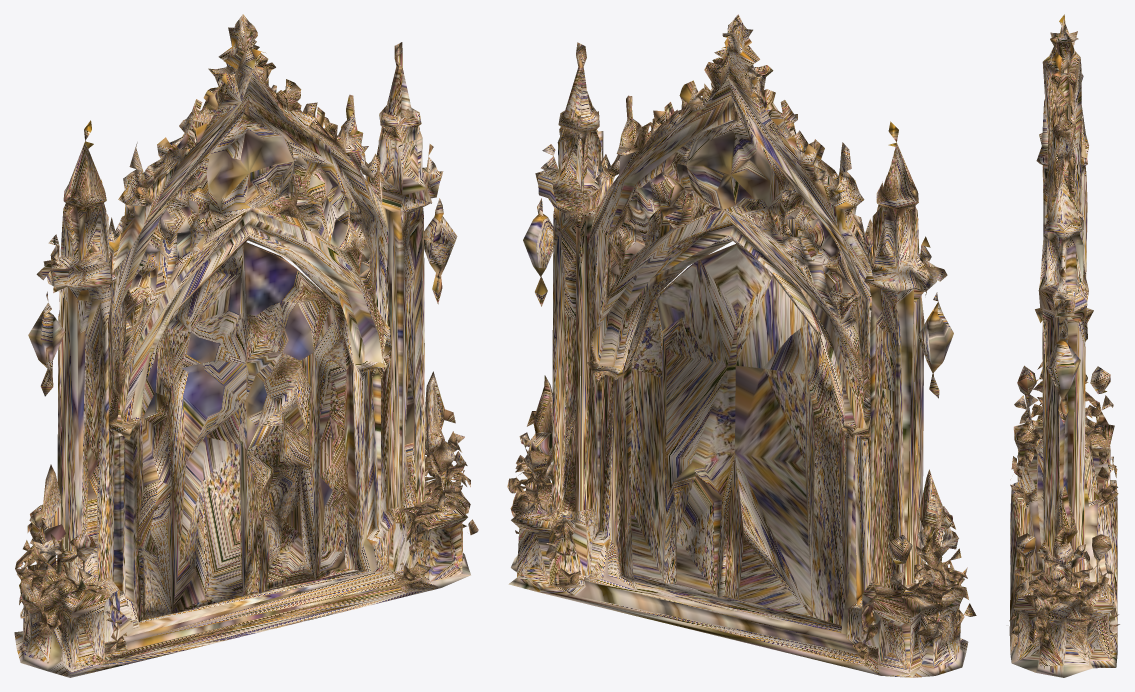
File: Royal_Portal_Gate.glb
3 renders of one model, left to right at view 1: azimuth 30°, elevation 25°; view 2: azimuth 150°, elevation 25°; view 3: azimuth 270°, elevation 25°, orthographic. The views are drawn at different scales.
Parts seen in each view (by area): view 1: Royal_Portal_Gate; view 2: Royal_Portal_Gate; view 3: Royal_Portal_Gate.
Boxes of the visible parts, x1,y1,x2,y2 form: Royal_Portal_Gate: [14, 14, 478, 677]; Royal_Portal_Gate: [507, 14, 976, 677]; Royal_Portal_Gate: [1009, 14, 1119, 677].
Bounding box in the file's own units: 1.49 × 1.9 × 0.358.
1 material, 1 textured.
